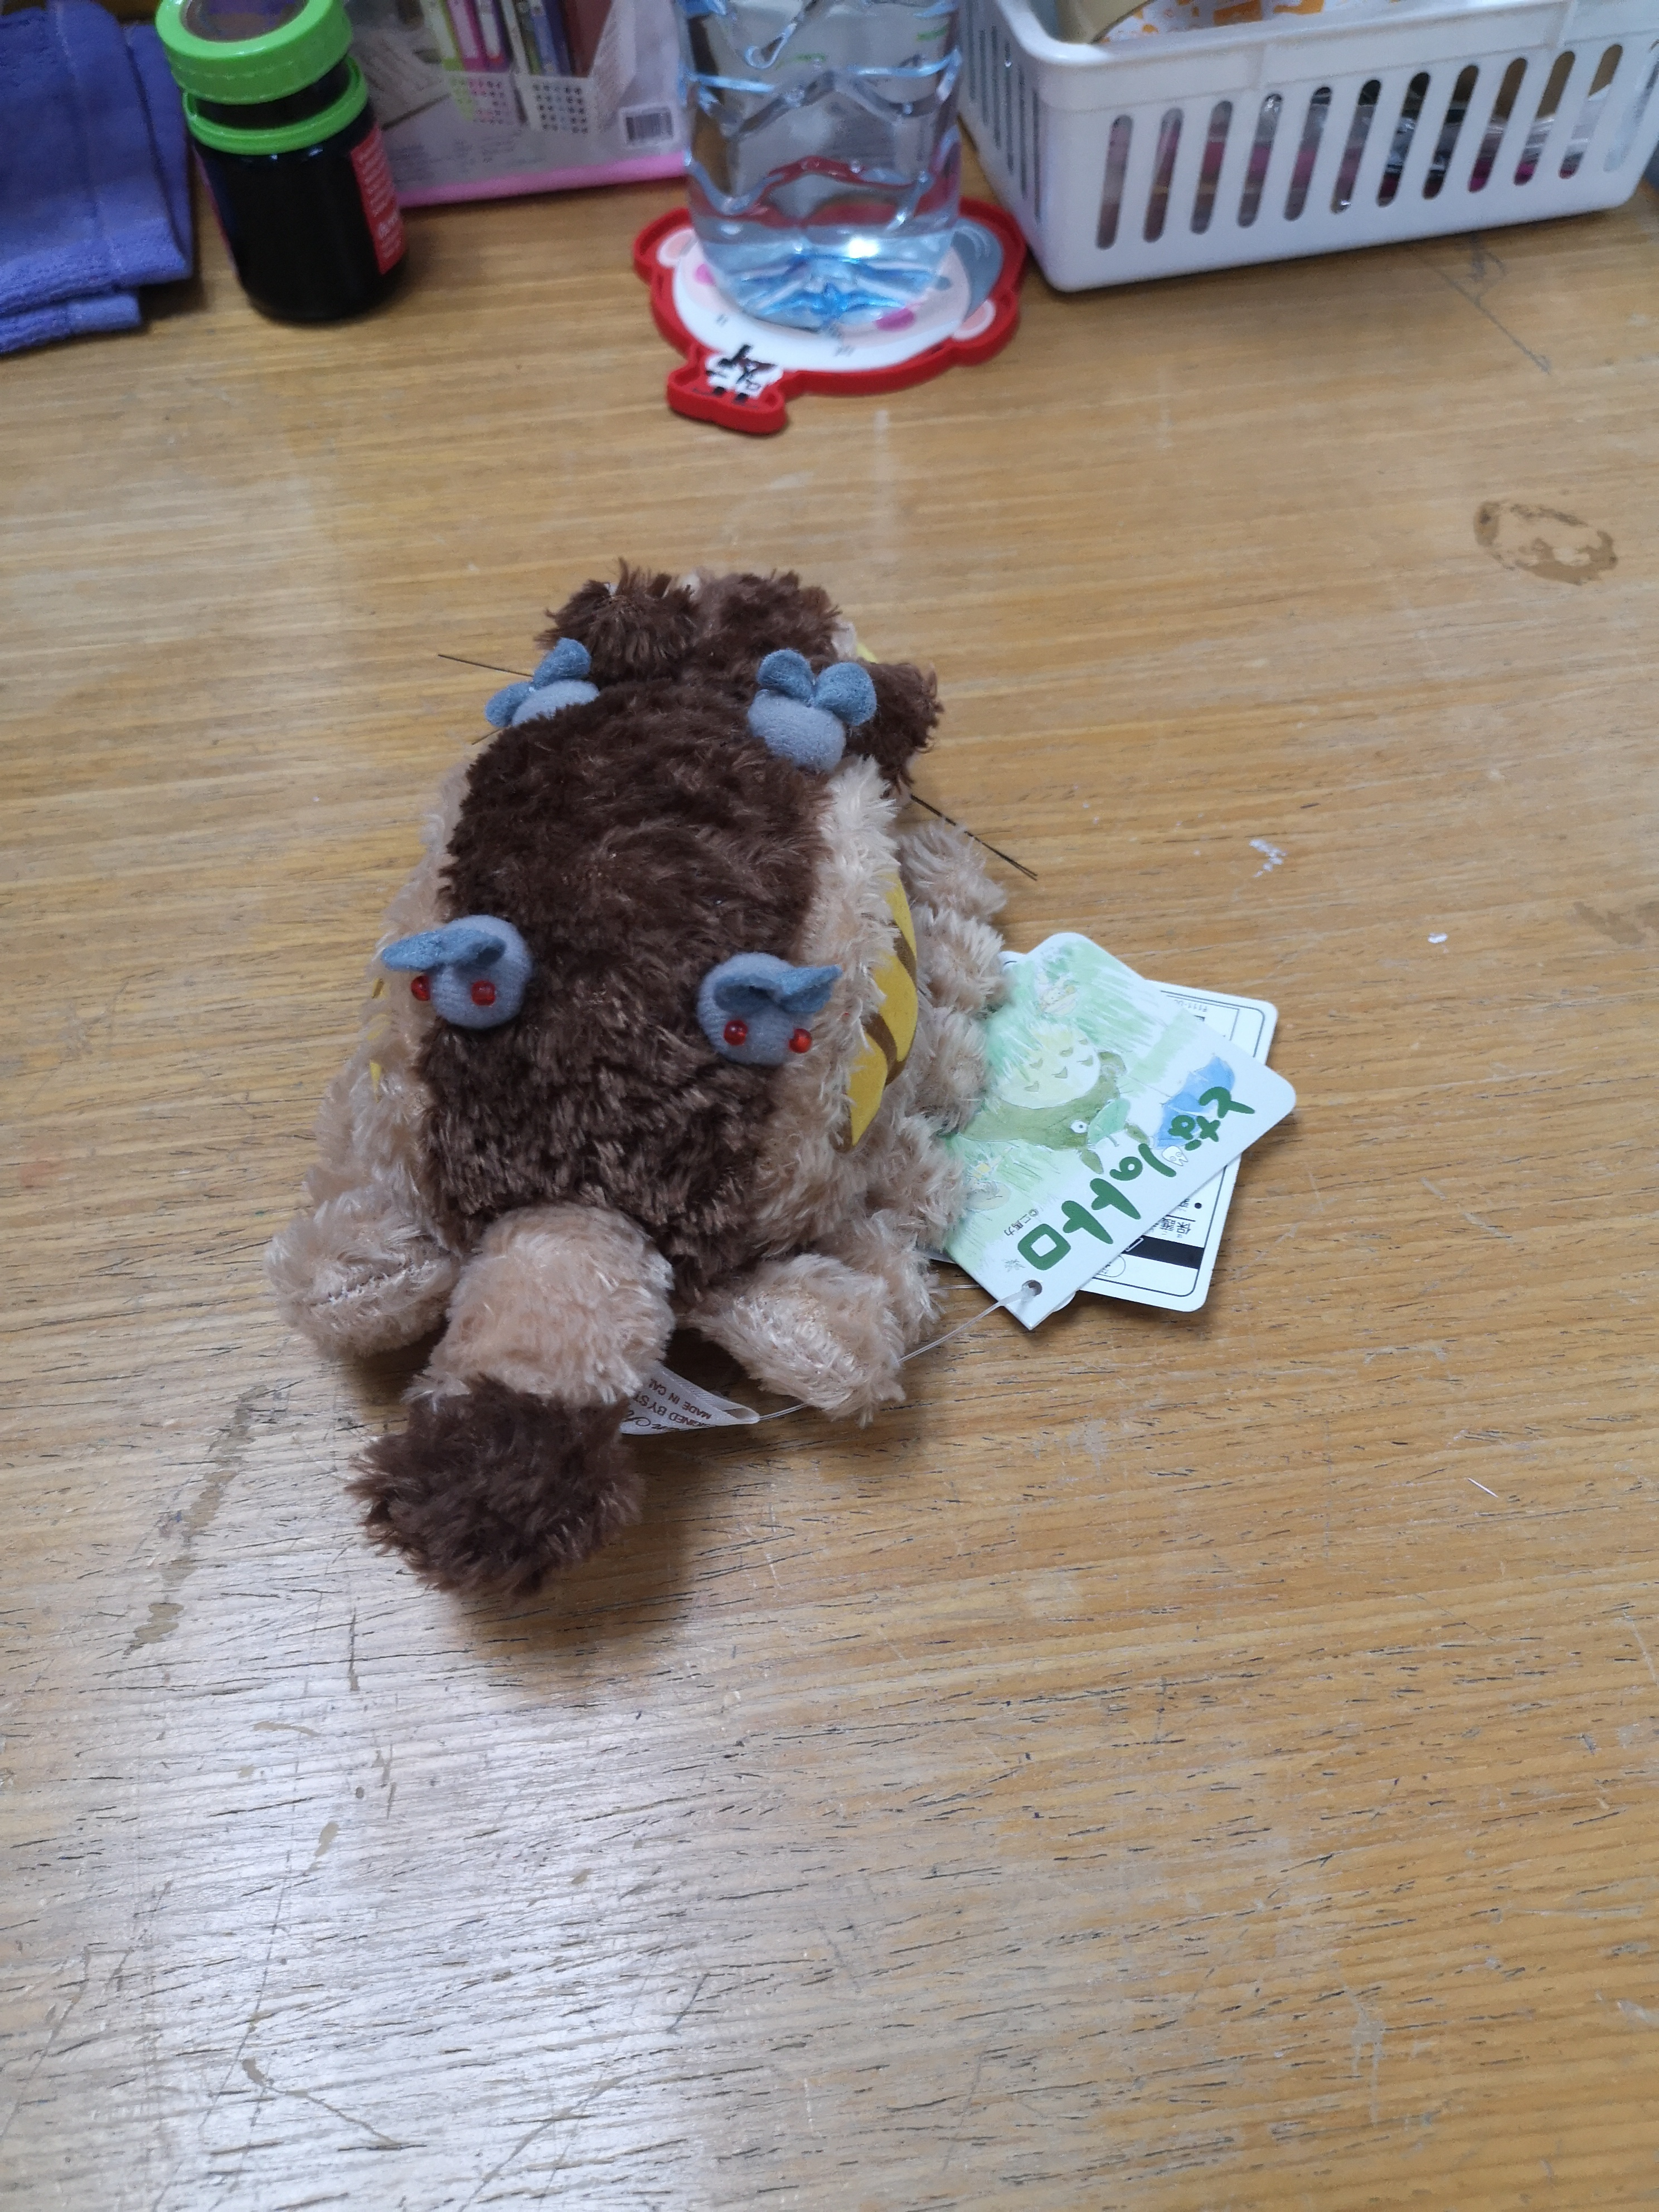nekobus: (256, 554, 1030, 1613)
